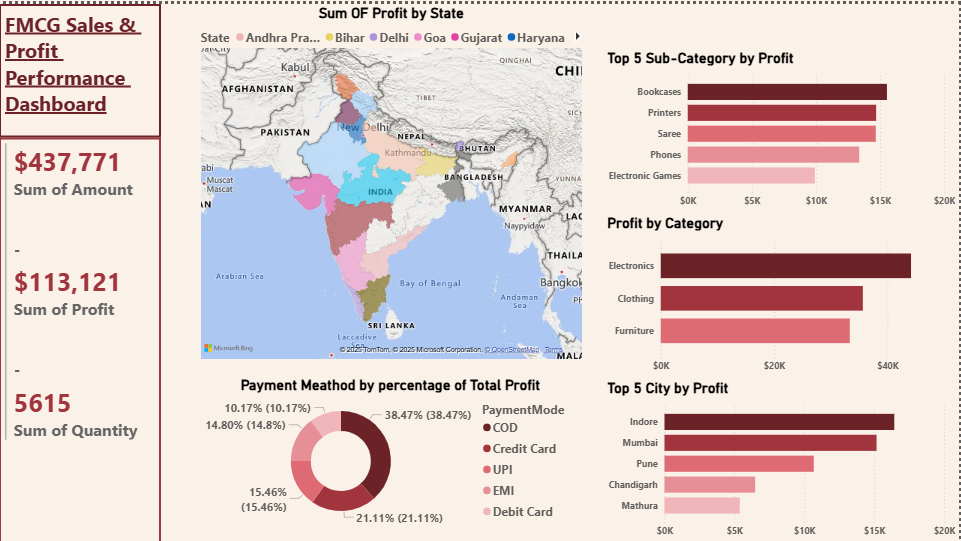

This screenshot's page, from the dashboard's own definition file:
{"tool":"powerbi","page":{"name":"Page 1","canvas":[1280,720],"ordinal":0},"visuals":[{"type":"filledMap","title":"Sum OF Profit by State","fields":{"Series":["Orders.State"],"Category":["Orders.State"]},"box":[264,0,518,478],"z":0},{"type":"donutChart","title":"Payment Meathod by percentage of Total Profit","fields":{"Category":["Details.PaymentMode"],"Y":["Sum(Details.Profit)"]},"box":[263.9,498.7,518.2,221.8],"z":1000},{"type":"barChart","title":"Profit by Category","fields":{"Category":["Details.Category"],"Y":["Sum(Details.Profit)"]},"box":[806,280,474,220],"z":2000},{"type":"barChart","title":"Top 5 Sub-Category by Profit","fields":{"Category":["Details.Sub-Category"],"Y":["Sum(Details.Profit)"]},"box":[806,60,474,220],"z":3000},{"type":"barChart","title":"Top 5 City by Profit","fields":{"Y":["Sum(Details.Profit)"],"Category":["Orders.City"]},"box":[806,500,474,220],"z":4000},{"type":"multiRowCard","title":"Total Profit","fields":{"Values":["Sum(Details.Amount)","Details.Spacer","Sum(Details.Profit)","Details.Spacer","Sum(Details.Quantity)"]},"box":[0,208.9,215.4,511.7],"z":5000},{"type":"textbox","box":[0,0,215.4,208.9],"z":6000}]}

Visuals, with their boxes in screenshot pixels (x1, y1, x2, y2), scaled from the page's 1280x720 canvas onto the 961x541 screenshot:
"Sum OF Profit by State" filledMap: locate(198, 0, 587, 359)
"Payment Meathod by percentage of Total Profit" donutChart: locate(198, 375, 587, 540)
"Profit by Category" barChart: locate(605, 210, 960, 376)
"Top 5 Sub-Category by Profit" barChart: locate(605, 45, 960, 210)
"Top 5 City by Profit" barChart: locate(605, 376, 960, 540)
"Total Profit" multiRowCard: locate(0, 157, 162, 540)
textbox: locate(0, 0, 162, 157)
